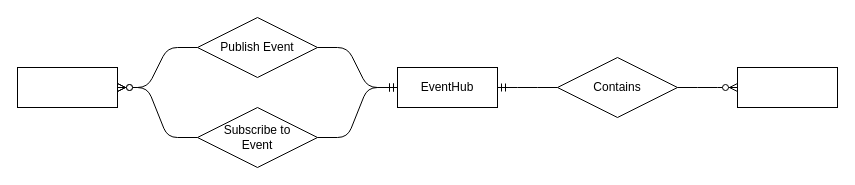
This 855x185 diagram has some shape labels left out. Here are the shapes that lost their labels. From the top down, the centre of each, then its label:
[67,87]: <Object>
[787,87]: EventTopic
